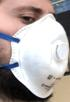with_mask: (1, 1, 70, 102)
